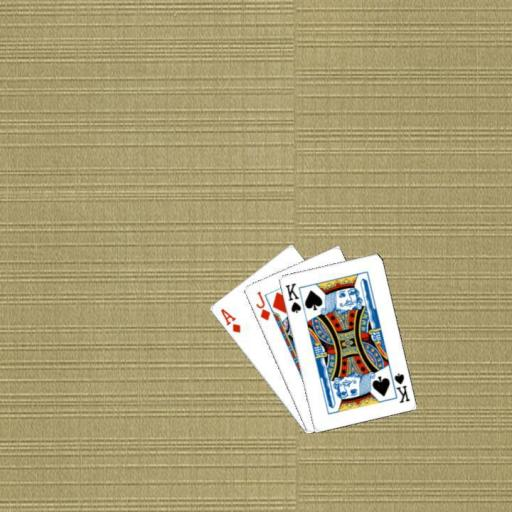AD: (217, 305, 242, 334)
JD: (253, 288, 272, 322)
KS: (387, 368, 411, 404), (282, 280, 302, 315)
